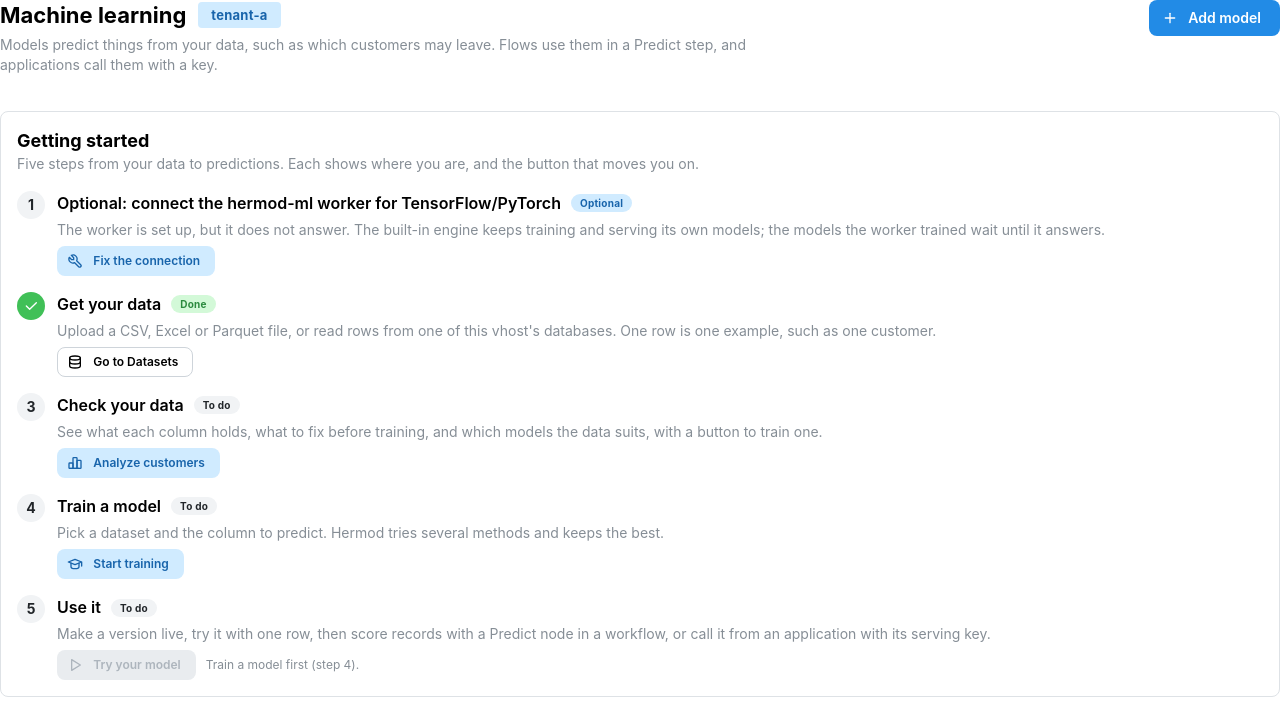
Test: Getting started: the built-in engine beside a worker › says a worker that is down is down, while the built-in engine keeps training
This screenshot has width=1280, height=718.
expect the text "built-in engine keeps training" is shown: met, box [57,221,1105,238]
expect the button "Fix the connection" is enabled: met, box [57,246,215,276]
Click the button "Add model": (1215, 18) [1149,0,1279,36]
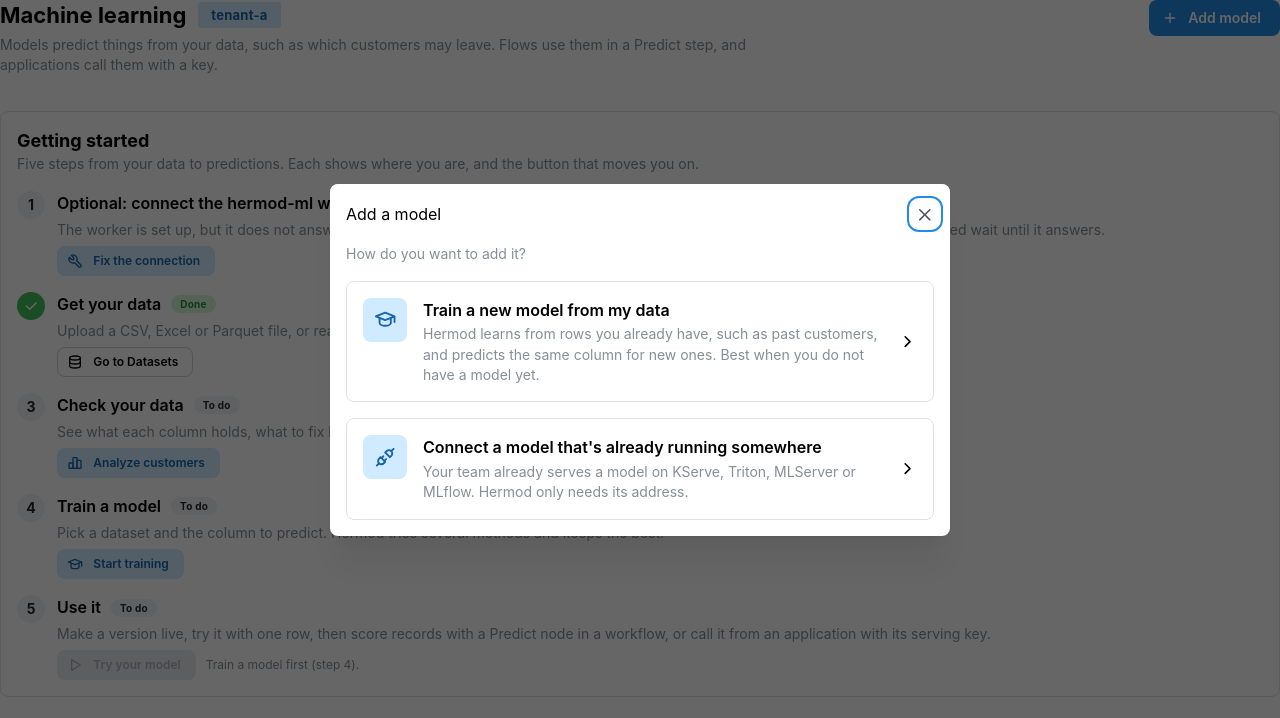
expect the button "Train a new model" is enabled: met, box [346,281,934,402]
